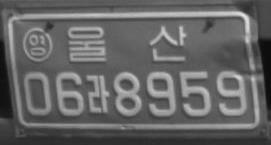0: (23, 71, 52, 116)
5: (178, 70, 211, 117)
6: (54, 70, 84, 117)
8: (112, 70, 142, 117)
9: (216, 69, 247, 117), (145, 70, 176, 117)
라: (85, 74, 109, 114)
영: (22, 26, 52, 63)
울산_D: (67, 25, 186, 62)
